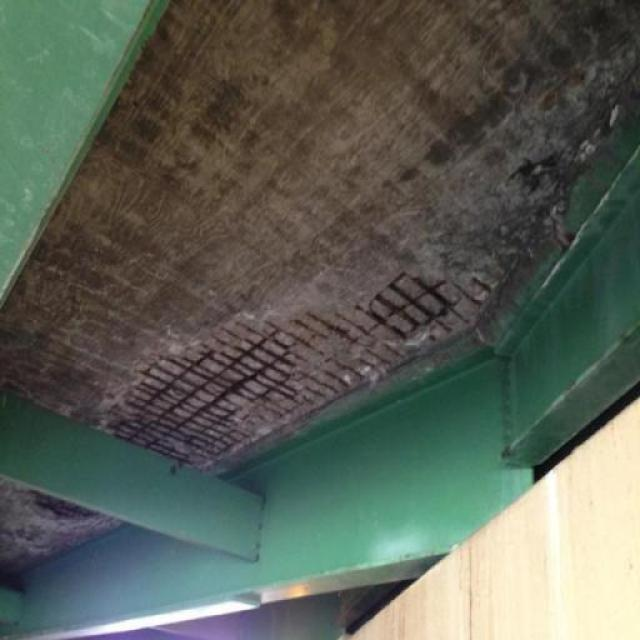D0w0: (91, 261, 496, 470)
